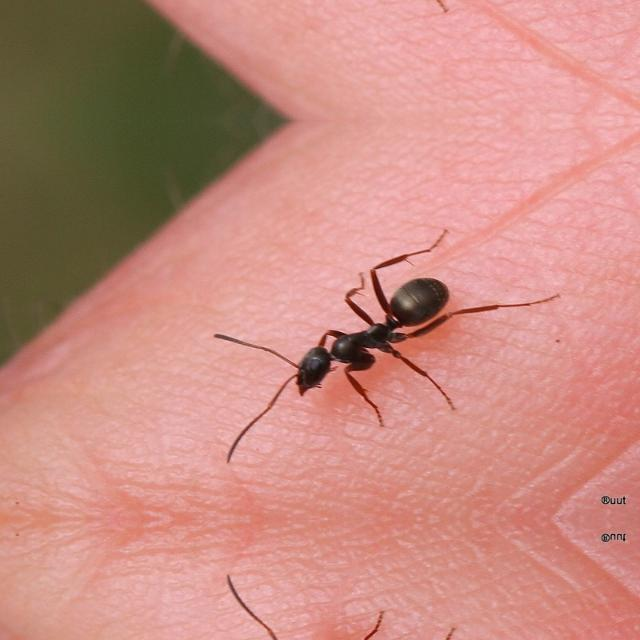Formica: (201, 220, 503, 426)
